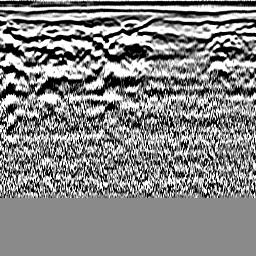cavity: (120, 16, 139, 37)
